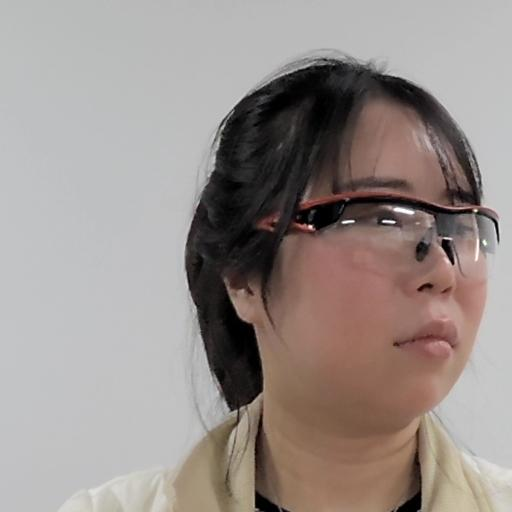glasses: (204, 65, 510, 433)
